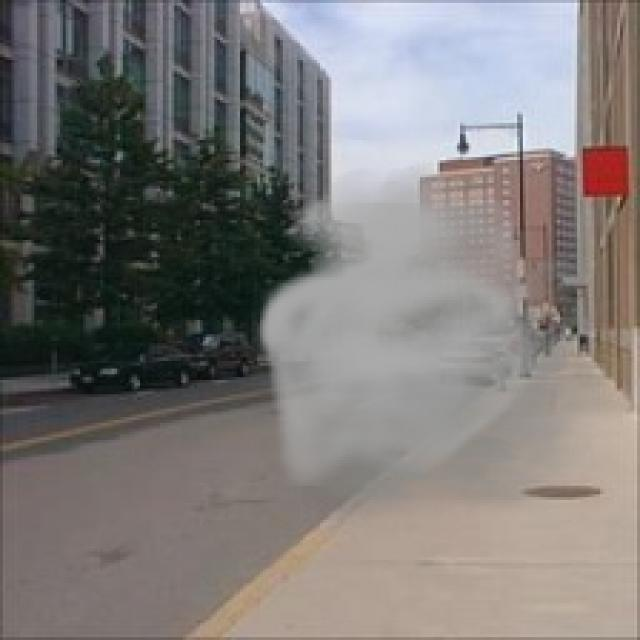Smoke: (252, 162, 637, 534)
